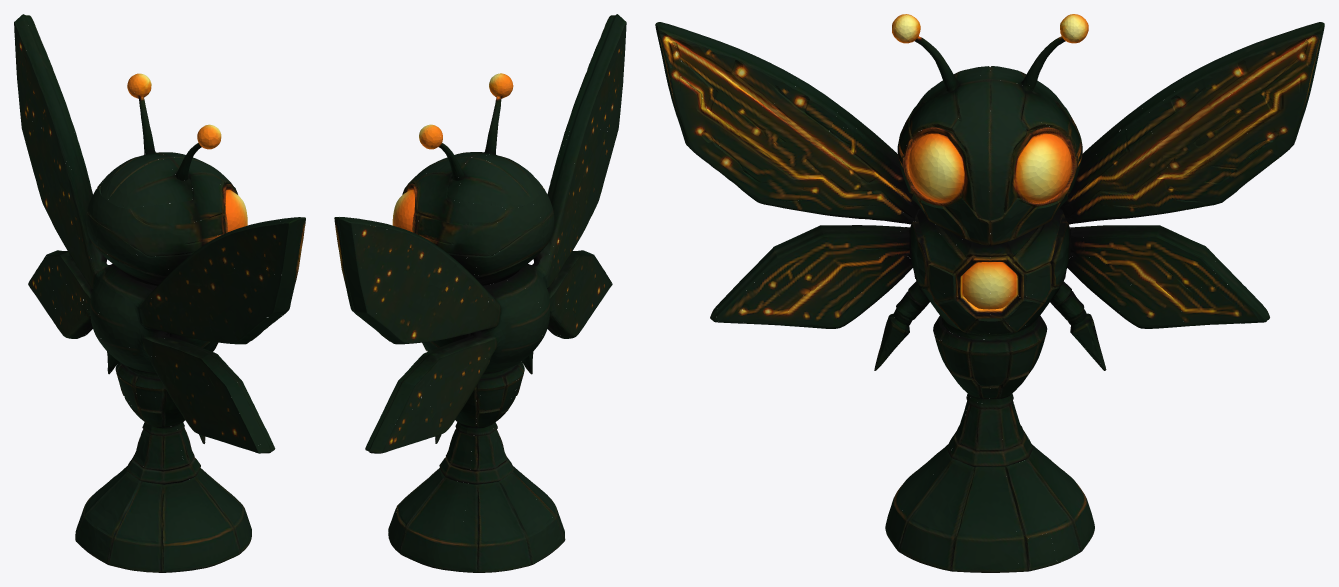
3 views of the same model, side by side, from view 1: azimuth 30°, elevation 25°; view 2: azimuth 150°, elevation 25°; view 3: azimuth 270°, elevation 25° (orthographic). The views are drawn at different scales.
Visible parts, largest first — view 1: tripo_node_9949a94a-7372-4776-9880-815f1517f4fc; view 2: tripo_node_9949a94a-7372-4776-9880-815f1517f4fc; view 3: tripo_node_9949a94a-7372-4776-9880-815f1517f4fc.
Boxes of the visible parts, bbox=[...] form: tripo_node_9949a94a-7372-4776-9880-815f1517f4fc: bbox=[14, 14, 305, 572]; tripo_node_9949a94a-7372-4776-9880-815f1517f4fc: bbox=[334, 14, 626, 572]; tripo_node_9949a94a-7372-4776-9880-815f1517f4fc: bbox=[655, 14, 1324, 572].
Size of the model in its own units: 0.3085 by 0.863 by 0.9999.
1 material, 1 textured.
